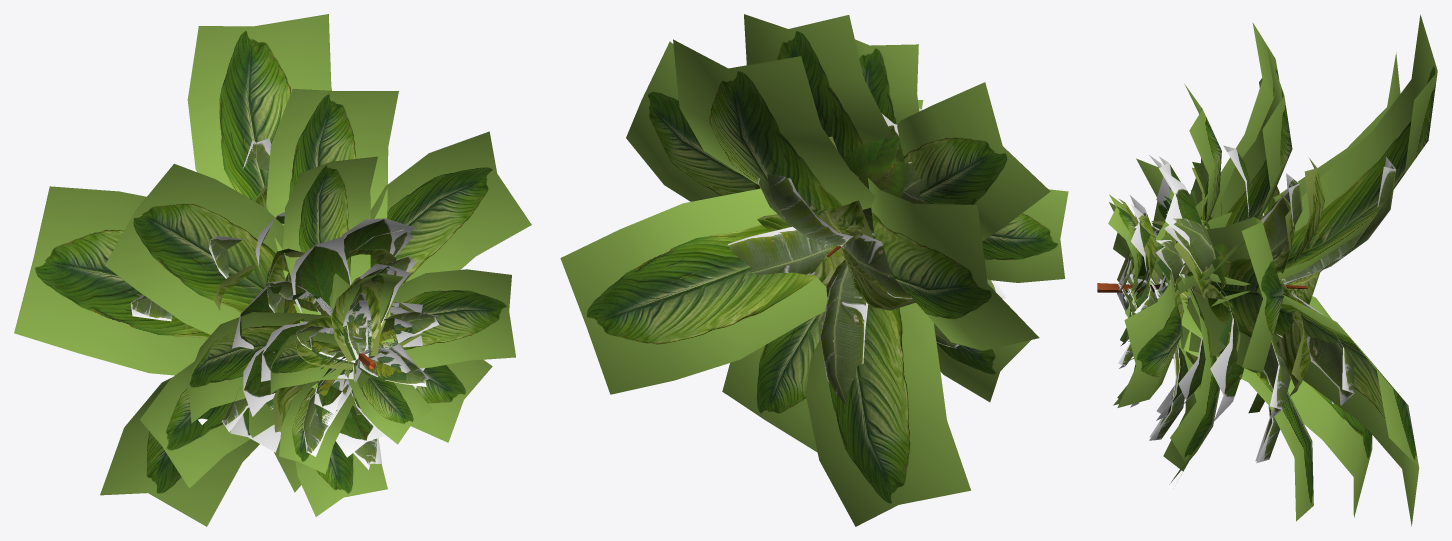
Rendered from TouchBendPlant.fbx.
3 renders of one model, left to right at view 1: azimuth 30°, elevation 25°; view 2: azimuth 150°, elevation 25°; view 3: azimuth 270°, elevation 25°, orthographic. The views are drawn at different scales.
Parts seen in each view (by area): view 1: bend_Leaf4, bend_Leaf1, bend_Leaf3, bend_Leaf5, bend_Nettle1, bend_Leaf2; view 2: bend_Leaf4, bend_Leaf3, bend_Leaf5, bend_Fern, bend_Leaf1; view 3: bend_Leaf4, bend_Leaf3, bend_Leaf5, bend_Leaf1, bend_Leaf2, bend_Fern.
Boxes of the visible parts, x1,y1,x2,y2 form: bend_Leaf4: [14, 14, 531, 526]; bend_Leaf1: [230, 212, 424, 457]; bend_Leaf3: [130, 138, 439, 469]; bend_Leaf5: [186, 183, 422, 432]; bend_Nettle1: [268, 266, 422, 426]; bend_Leaf2: [266, 267, 422, 423]; bend_Leaf4: [560, 14, 1068, 526]; bend_Leaf3: [728, 162, 1006, 405]; bend_Leaf5: [757, 136, 915, 310]; bend_Fern: [755, 150, 909, 296]; bend_Leaf1: [843, 108, 922, 173]; bend_Leaf4: [1108, 14, 1437, 526]; bend_Leaf3: [1097, 131, 1396, 463]; bend_Leaf5: [1097, 158, 1324, 396]; bend_Leaf1: [1128, 145, 1249, 421]; bend_Leaf2: [1120, 190, 1264, 361]; bend_Fern: [1145, 162, 1279, 413].
Bounding box in the file's own units: 150 × 148 × 88.36.
